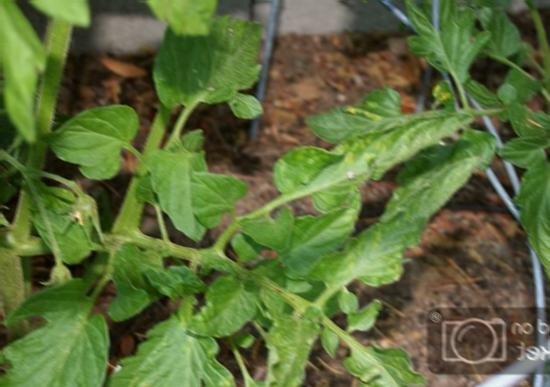Tomato leaf mosaic virus: (336, 154, 477, 288), (113, 276, 245, 387), (0, 279, 127, 387), (147, 9, 267, 123), (43, 105, 140, 183), (505, 150, 550, 290), (188, 265, 274, 337), (180, 166, 244, 225)
